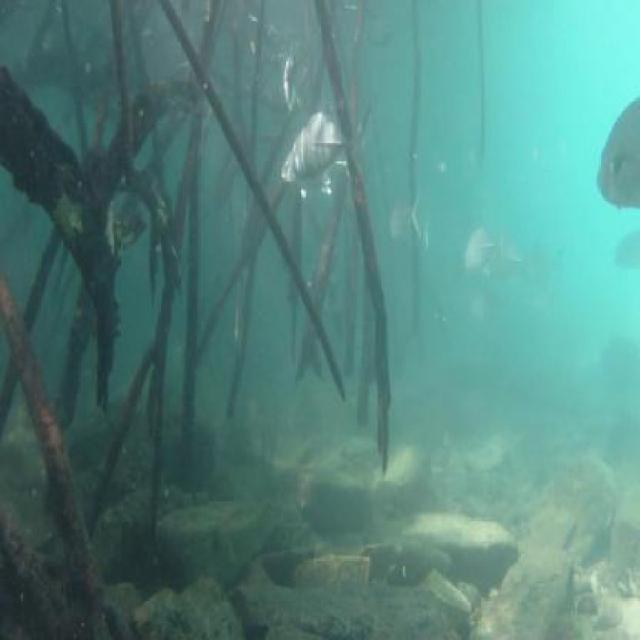Caranx_sexfasciatus_juvenile: (292, 102, 383, 186), (594, 85, 640, 222), (272, 136, 348, 202), (498, 221, 548, 290), (379, 185, 421, 261), (276, 36, 307, 124), (456, 222, 495, 288), (447, 296, 495, 342), (612, 210, 640, 279)
